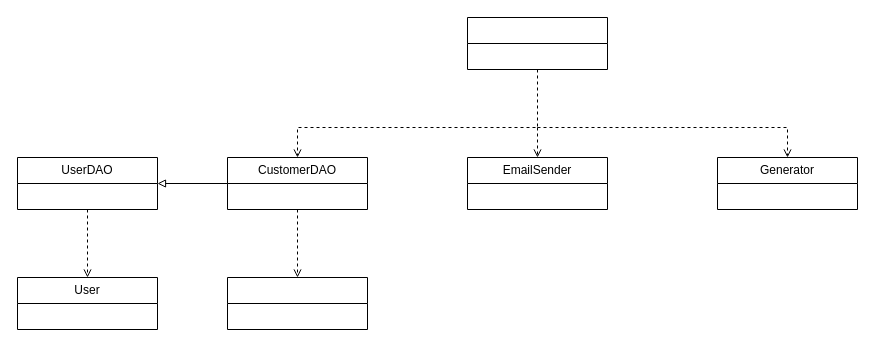
This 875x347 diagram has some shape labels left out. The shapes that lost their labels are listed below. From the top down, each one's centre as x and y in pixels, then its label:
At point 537,43: "LogController".
At point 297,303: "Customer".
